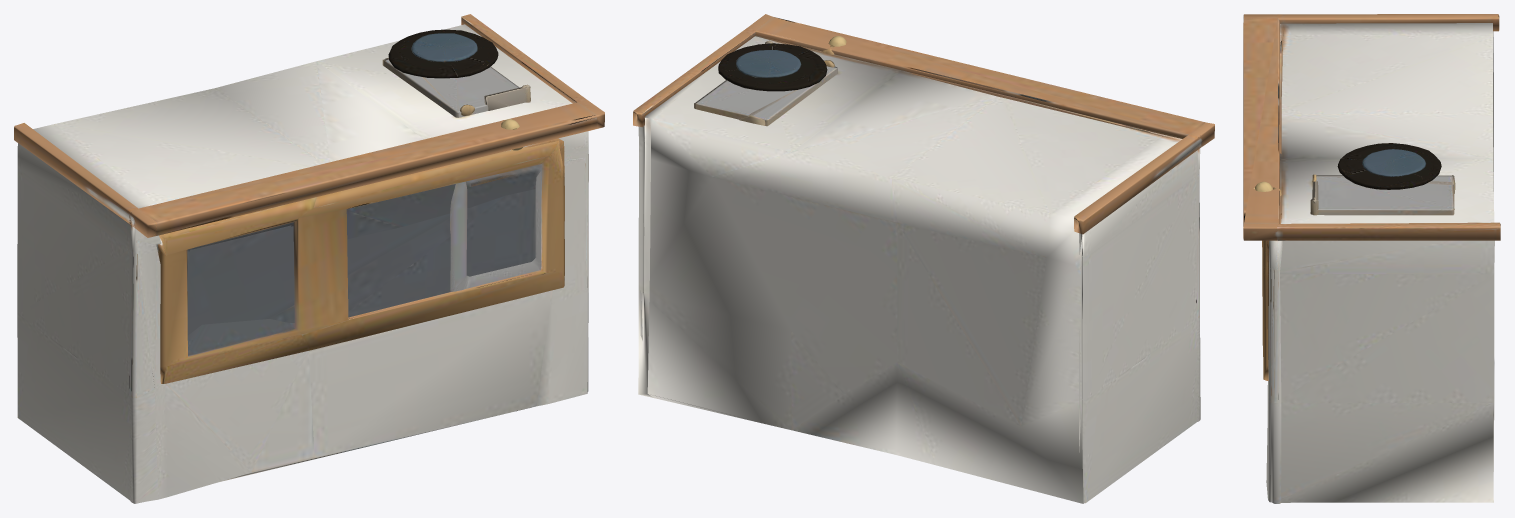
File: stove.copper.glb
The picture shows the model from 3 angles, left to right: view 1: azimuth 30°, elevation 25°; view 2: azimuth 150°, elevation 25°; view 3: azimuth 270°, elevation 25°; orthographic projection. The views are drawn at different scales.
Parts seen in each view (by area): view 1: geometry_0; view 2: geometry_0; view 3: geometry_0.
Boxes of the visible parts, left/top/right/bottom form: geometry_0: left=14, top=14, right=604, bottom=503; geometry_0: left=633, top=14, right=1214, bottom=503; geometry_0: left=1243, top=14, right=1500, bottom=503.
Size of the model in its own units: 1 by 0.669 by 0.5119.
Materials: 1 (1 with a texture image).
